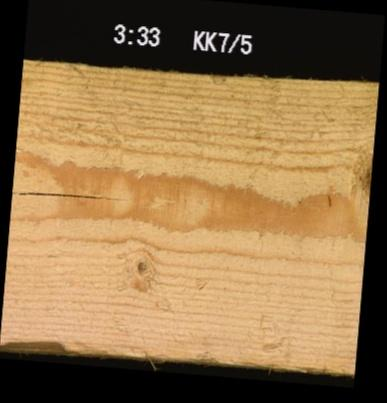sound_knot: (342, 147, 369, 229), (118, 245, 162, 294)
split: (11, 182, 127, 201)
wave: (4, 339, 176, 360)
